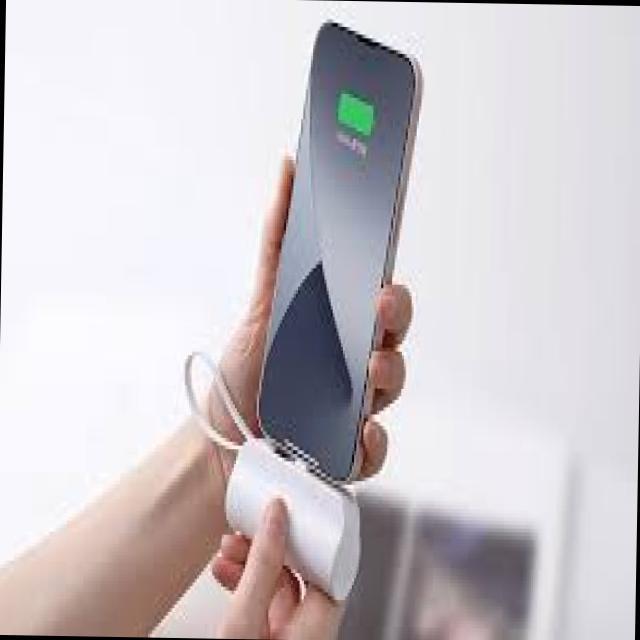power_bank: (225, 430, 366, 613)
